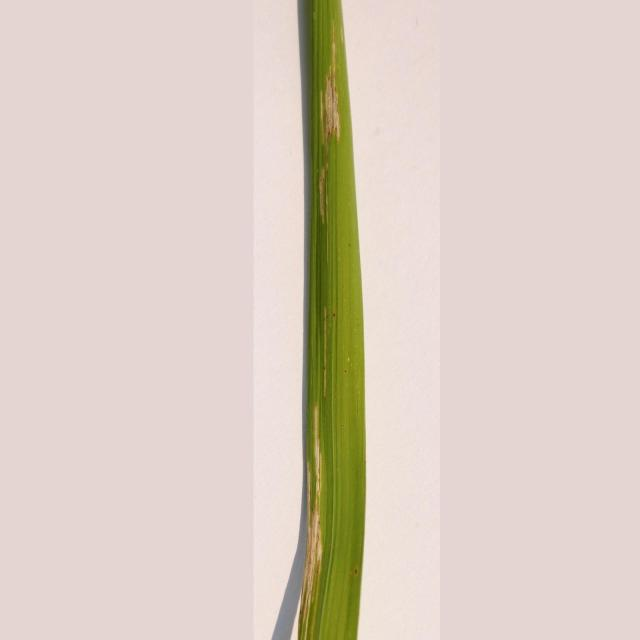Bacterial leaf blight: (300, 410, 338, 640), (320, 15, 346, 168)
